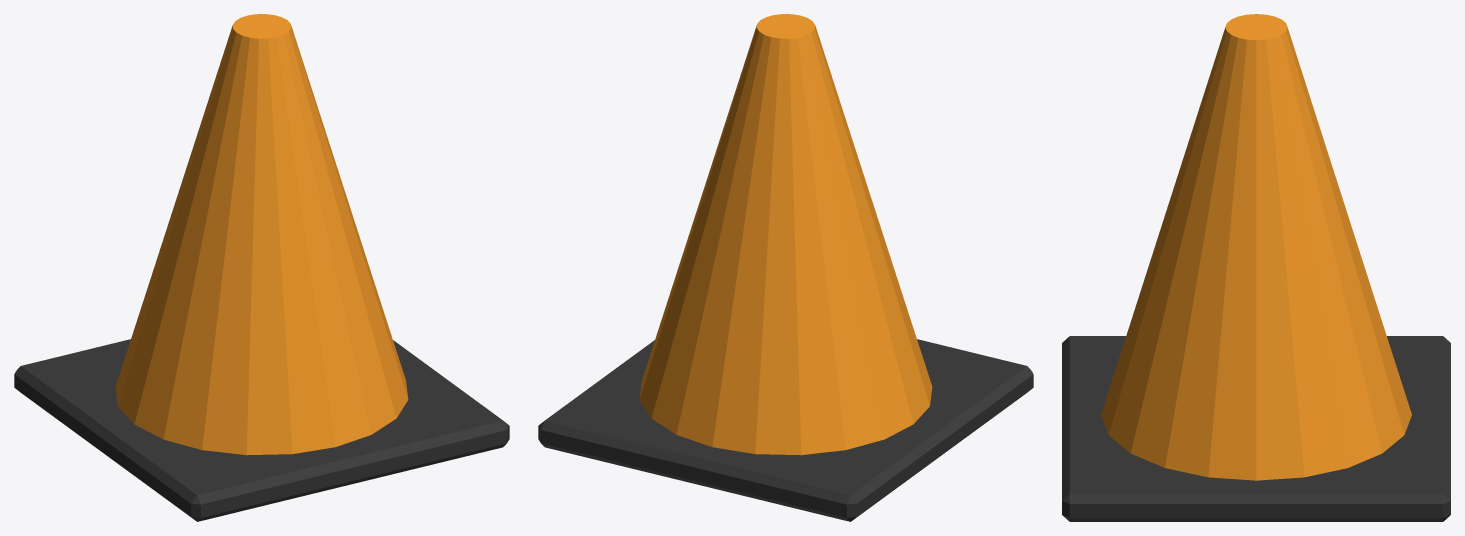
The picture shows the model from 3 angles, left to right: view 1: azimuth 30°, elevation 25°; view 2: azimuth 150°, elevation 25°; view 3: azimuth 270°, elevation 25°; orthographic projection. The views are drawn at different scales.
Visible parts, largest first — view 1: Cone_Body, Cone_Base; view 2: Cone_Body, Cone_Base; view 3: Cone_Body, Cone_Base.
Part boxes in pixels (<box>): Cone_Body: <box>115,14,408,455</box>; Cone_Base: <box>14,339,509,521</box>; Cone_Body: <box>639,14,932,455</box>; Cone_Base: <box>538,339,1033,521</box>; Cone_Body: <box>1101,14,1411,480</box>; Cone_Base: <box>1062,336,1450,521</box>.
Size of the model in its own units: 0.5 by 0.59 by 0.5.
